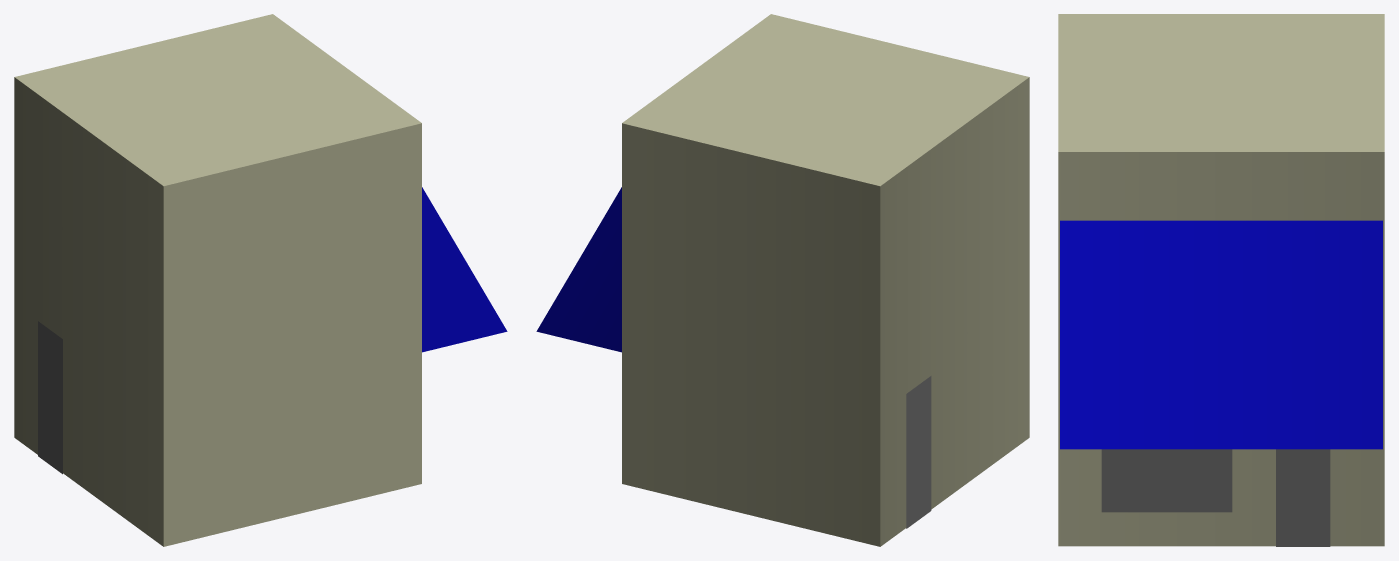
Rendered from strip-3-high.glb.
The picture shows the model from 3 angles, left to right: view 1: azimuth 30°, elevation 25°; view 2: azimuth 150°, elevation 25°; view 3: azimuth 270°, elevation 25°; orthographic projection. The views are drawn at different scales.
Parts seen in each view (by area): view 1: mesh0; view 2: mesh0; view 3: mesh0.
Part boxes in pixels (x1,y1,x2,y2): mesh0: (14,14,507,546); mesh0: (536,14,1029,546); mesh0: (1058,14,1384,546).
Bounding box in the file's own units: 0.803 × 0.8 × 0.6.
